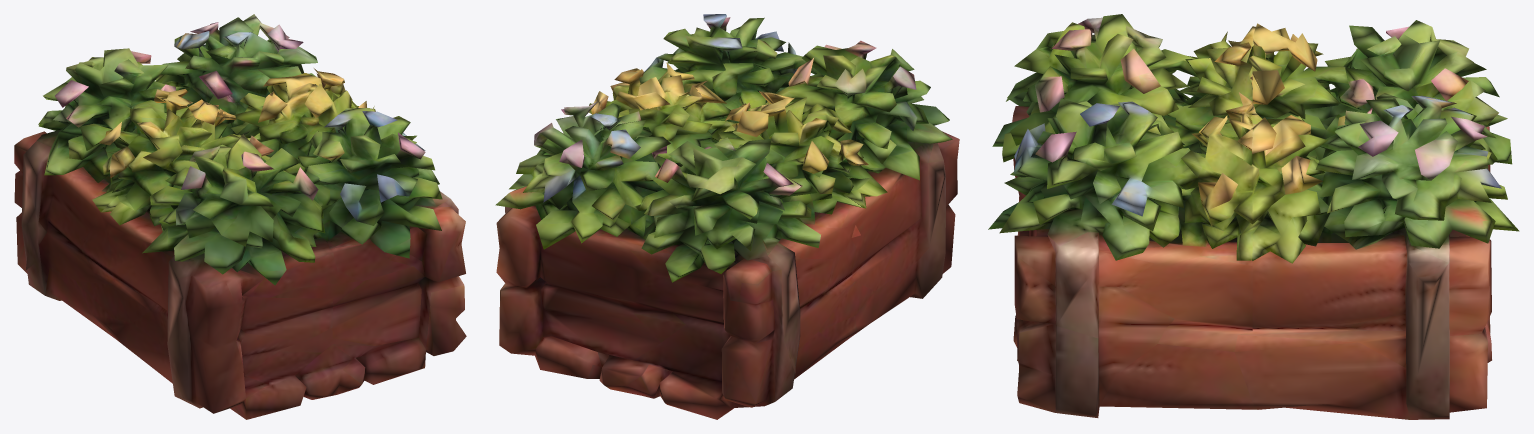
The model's file is flower_box_l1.glb.
3 views of the same model, side by side, from view 1: azimuth 30°, elevation 25°; view 2: azimuth 150°, elevation 25°; view 3: azimuth 270°, elevation 25° (orthographic). The views are drawn at different scales.
Parts seen in each view (by area): view 1: tripo_node_127b84db-80f0-4ea4-9fd6-6a07fc470ea1; view 2: tripo_node_127b84db-80f0-4ea4-9fd6-6a07fc470ea1; view 3: tripo_node_127b84db-80f0-4ea4-9fd6-6a07fc470ea1.
Boxes of the visible parts, x1,y1,x2,y2 form: tripo_node_127b84db-80f0-4ea4-9fd6-6a07fc470ea1: [14, 14, 466, 419]; tripo_node_127b84db-80f0-4ea4-9fd6-6a07fc470ea1: [495, 14, 959, 419]; tripo_node_127b84db-80f0-4ea4-9fd6-6a07fc470ea1: [988, 14, 1519, 419].
Size of the model in its own units: 0.7566 by 0.609 by 0.9923.
1 material, 1 textured.
